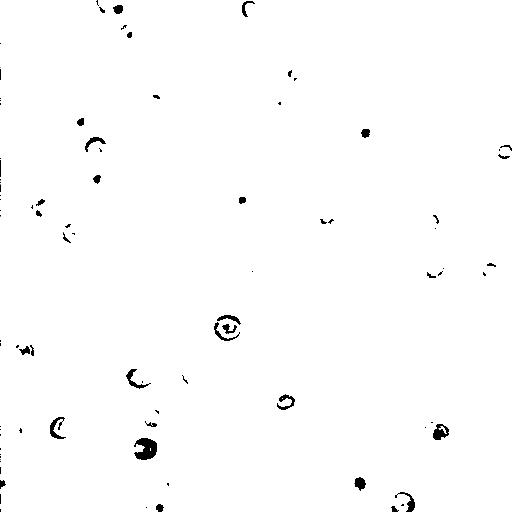micro-algae: (1, 59, 113, 180), (422, 50, 512, 145), (292, 74, 381, 158), (83, 449, 200, 512), (266, 0, 325, 49), (98, 380, 153, 431), (35, 230, 83, 277), (1, 32, 26, 114), (16, 324, 59, 365), (306, 195, 348, 234), (70, 0, 130, 27), (351, 114, 388, 154), (86, 487, 142, 511), (97, 317, 135, 352), (216, 456, 249, 491), (475, 253, 507, 287), (384, 300, 415, 332), (246, 384, 277, 415), (30, 194, 61, 224), (211, 312, 242, 342), (278, 58, 307, 89), (421, 418, 452, 444), (5, 415, 33, 443), (66, 106, 93, 135), (82, 136, 109, 165), (105, 370, 136, 395), (127, 363, 155, 390), (131, 436, 158, 461), (116, 25, 142, 50), (12, 340, 36, 366), (85, 168, 110, 192), (177, 364, 202, 388), (144, 495, 178, 512), (2, 177, 14, 225), (48, 416, 72, 440), (107, 0, 131, 23), (390, 491, 416, 512), (249, 258, 270, 284), (424, 256, 446, 280), (60, 221, 82, 244), (1, 468, 19, 496), (156, 474, 178, 496), (142, 408, 163, 428), (423, 212, 444, 231), (271, 93, 290, 113), (275, 394, 296, 412), (241, 0, 260, 18), (422, 0, 450, 11), (350, 476, 367, 494), (497, 143, 512, 160), (95, 0, 113, 14), (167, 0, 194, 9), (439, 67, 452, 82), (235, 194, 250, 206), (203, 0, 218, 5)
